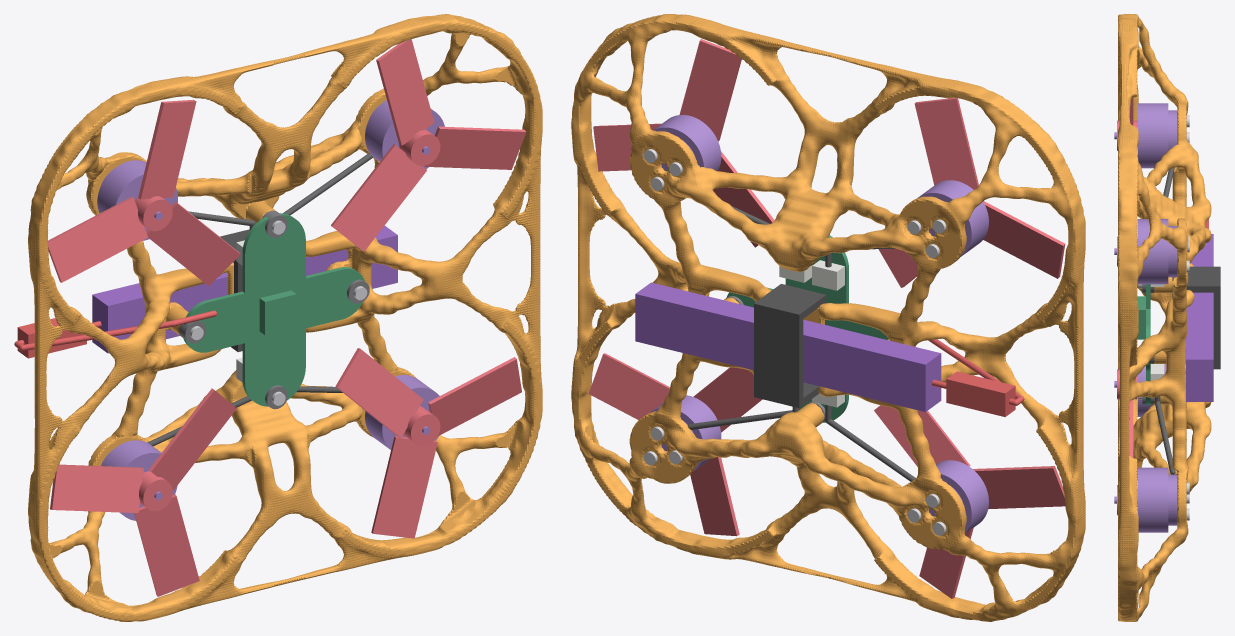
File: drone.glb
The picture shows the model from 3 angles, left to right: view 1: azimuth 30°, elevation 25°; view 2: azimuth 150°, elevation 25°; view 3: azimuth 270°, elevation 25°; orthographic projection. The views are drawn at different scales.
Parts seen in each view (by area): view 1: frame__0, flight_controller__0, prop_front_right__0, prop_front_left__0, prop_back_left__0, prop_back_right__0, battery__0, motor_back_left__0, motor_front_left__0, power_pigtail__0, motor_back_right__0, motor_front_right__0; view 2: frame__0, battery__0, prop_front_right__0, prop_back_left__0, prop_back_right__0, prop_front_left__0, battery_strap__0, flight_controller__0, motor_back_right__0, motor_front_left__0, power_pigtail__0, motor_back_left__0 (+5 smaller); view 3: frame__0, battery__0, motor_front_right__0, motor_back_left__0, motor_front_left__0, battery_strap__0, flight_controller__0, motor_lead_front_right__0, motor_back_right__0, prop_front_right__0, motor_sockets__0, prop_back_left__0 (+1 smaller).
Boxes of the visible parts, x1,y1,x2,y2 form: frame__0: (28,14,542,621); flight_controller__0: (183,213,364,406); prop_front_right__0: (335,348,521,538); prop_front_left__0: (331,39,526,251); prop_back_left__0: (48,99,240,285); prop_back_right__0: (50,388,236,596); battery__0: (92,225,397,353); motor_back_left__0: (97,160,177,240); motor_front_left__0: (365,100,444,168); power_pigtail__0: (14,310,217,358); motor_back_right__0: (101,440,177,520); motor_front_right__0: (365,375,439,449); frame__0: (571,14,1085,621); battery__0: (635,282,941,411); prop_front_right__0: (588,353,762,536); prop_back_left__0: (878,97,1065,287); prop_back_right__0: (874,405,1065,598); prop_front_left__0: (593,39,774,247); battery_strap__0: (754,284,826,407); flight_controller__0: (726,235,888,422); motor_back_right__0: (929,460,988,533); motor_front_left__0: (653,115,721,171); power_pigtail__0: (928,339,1024,416); motor_back_left__0: (918,180,988,256); frame__0: (1118,14,1211,621); battery__0: (1186,234,1213,401); motor_front_right__0: (1114,467,1177,532); motor_back_left__0: (1114,103,1177,168); motor_front_left__0: (1114,219,1177,284); battery_strap__0: (1172,266,1220,369); flight_controller__0: (1137,284,1150,404); motor_lead_front_right__0: (1154,396,1175,474); motor_back_right__0: (1114,364,1166,416); prop_front_right__0: (1117,400,1133,515); motor_sockets__0: (1150,284,1164,380); prop_back_left__0: (1117,98,1137,150).
Size of the model in its own units: 112 by 112 by 22.9.
